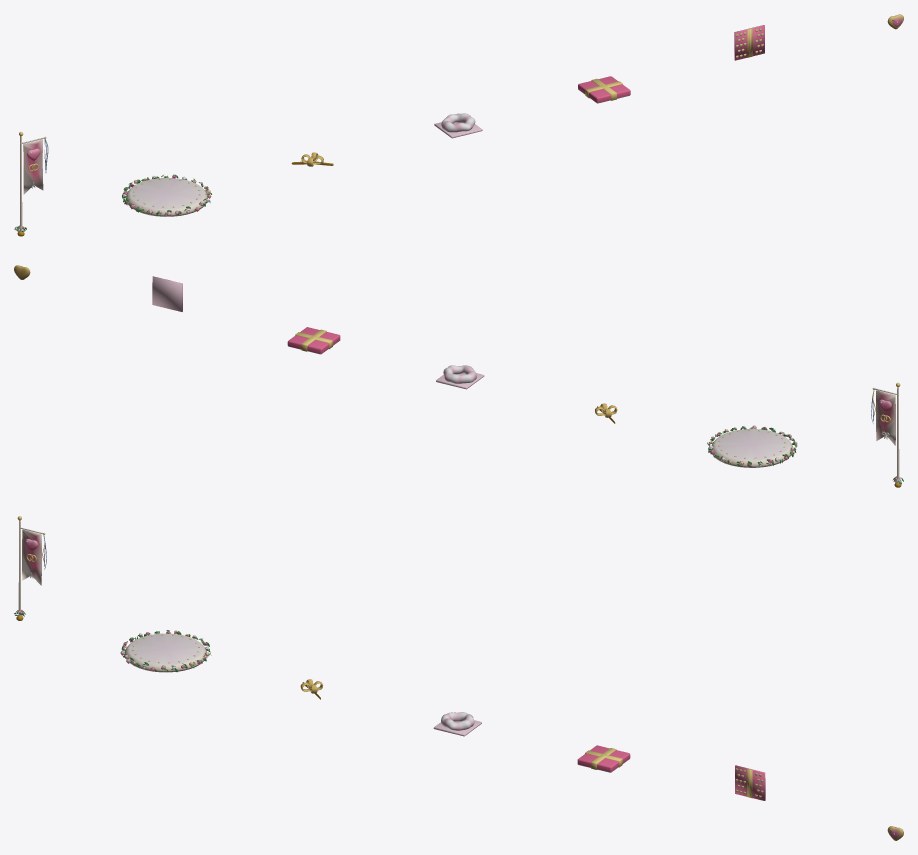
Rendered from prp_anniv_gift.glb.
3 views of the same model, one above another, from view 1: azimuth 30°, elevation 25°; view 2: azimuth 150°, elevation 25°; view 3: azimuth 330°, elevation 25° (orthographic).
Parts seen in each view (by area): view 1: INST_prp_anniv_gift_dais, INST_prp_anniv_gift_banner, INST_prp_anniv_gift_gift_lid, INST_prp_anniv_gift_gift_wall, INST_prp_anniv_gift_gift_floor; view 2: INST_prp_anniv_gift_dais, INST_prp_anniv_gift_banner, INST_prp_anniv_gift_gift_lid, INST_prp_anniv_gift_gift_wall, INST_prp_anniv_gift_gift_floor; view 3: INST_prp_anniv_gift_dais, INST_prp_anniv_gift_banner, INST_prp_anniv_gift_gift_lid, INST_prp_anniv_gift_gift_wall, INST_prp_anniv_gift_gift_floor.
Boxes of the visible parts, bbox=[...] form: INST_prp_anniv_gift_dais: bbox=[122, 174, 211, 216]; INST_prp_anniv_gift_banner: bbox=[14, 132, 48, 236]; INST_prp_anniv_gift_gift_lid: bbox=[578, 76, 630, 103]; INST_prp_anniv_gift_gift_wall: bbox=[734, 25, 764, 60]; INST_prp_anniv_gift_gift_floor: bbox=[434, 113, 482, 138]; INST_prp_anniv_gift_dais: bbox=[707, 425, 797, 467]; INST_prp_anniv_gift_banner: bbox=[871, 382, 903, 487]; INST_prp_anniv_gift_gift_lid: bbox=[287, 327, 340, 354]; INST_prp_anniv_gift_gift_wall: bbox=[152, 276, 182, 311]; INST_prp_anniv_gift_gift_floor: bbox=[436, 365, 484, 389]; INST_prp_anniv_gift_dais: bbox=[120, 630, 211, 672]; INST_prp_anniv_gift_banner: bbox=[14, 516, 46, 620]; INST_prp_anniv_gift_gift_lid: bbox=[577, 745, 630, 772]; INST_prp_anniv_gift_gift_wall: bbox=[735, 765, 765, 800]; INST_prp_anniv_gift_gift_floor: bbox=[433, 712, 481, 736].
Bounding box in the file's own units: 36.55 × 4.35 × 3.27.
